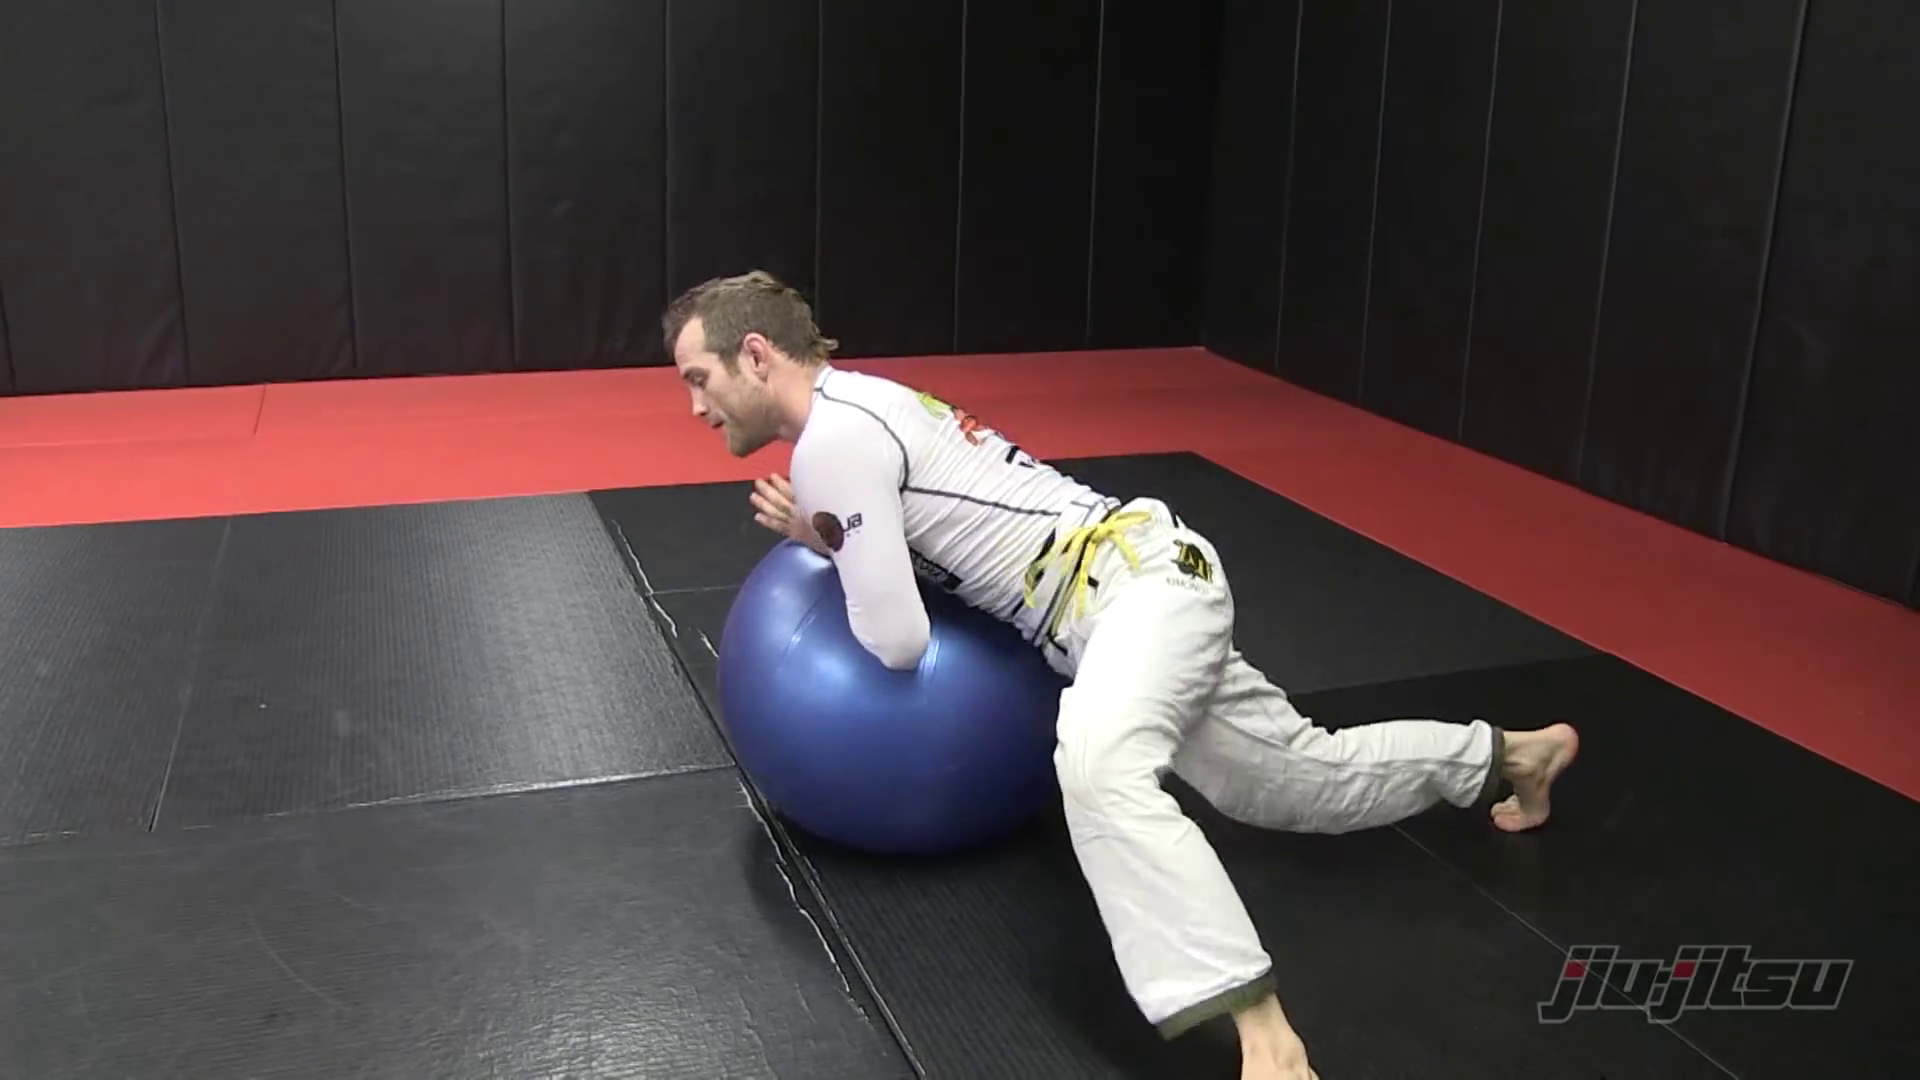yogaball: (698, 530, 1077, 884)
